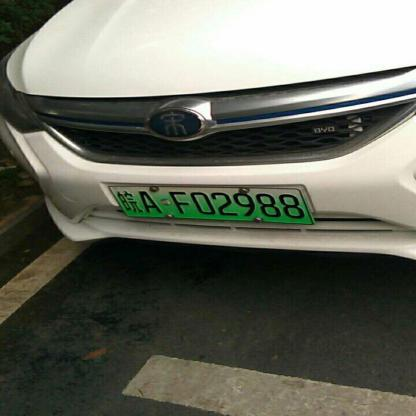lp: (109, 185, 313, 223)
